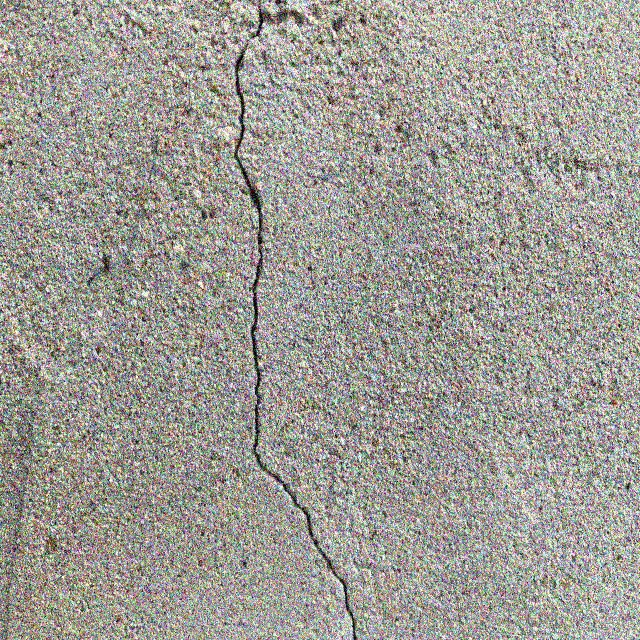SurfaceCrack: (194, 0, 380, 640)
